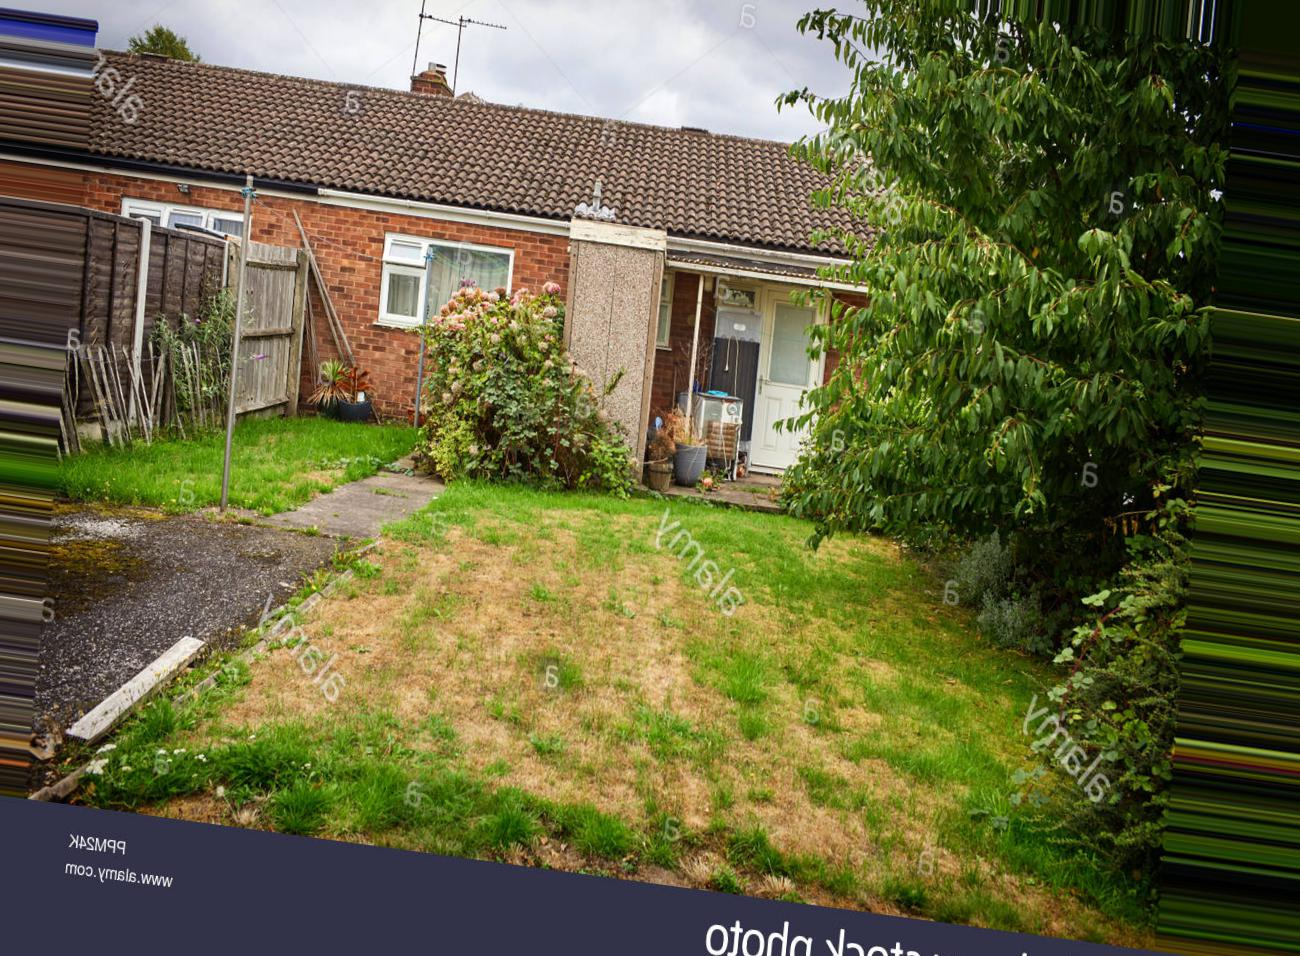patch: (409, 568, 539, 724), (575, 552, 701, 712), (327, 608, 388, 685)
